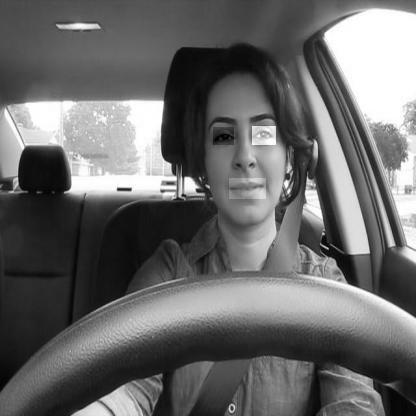seatbelt: (164, 43, 304, 416)
